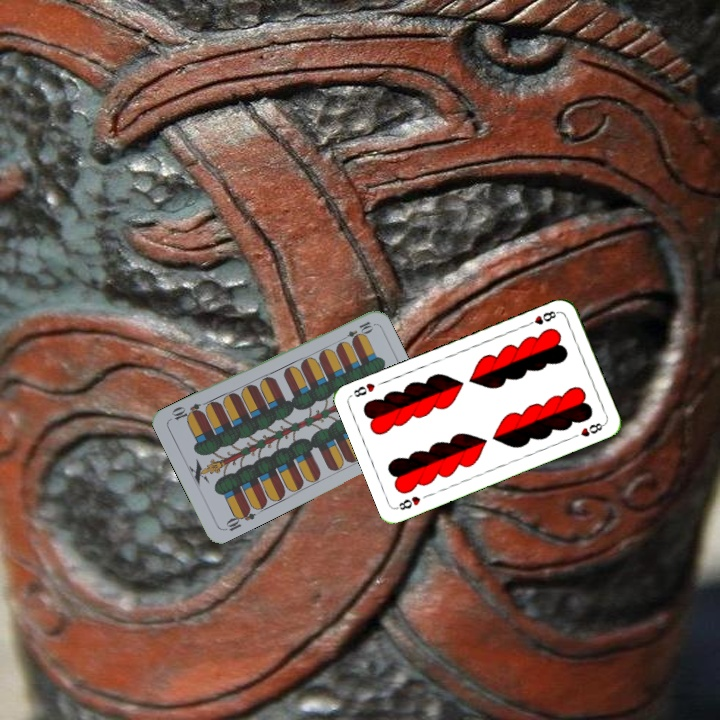E10: (220, 504, 258, 534), (337, 317, 375, 345)
H8: (522, 307, 561, 329), (393, 492, 423, 513)
